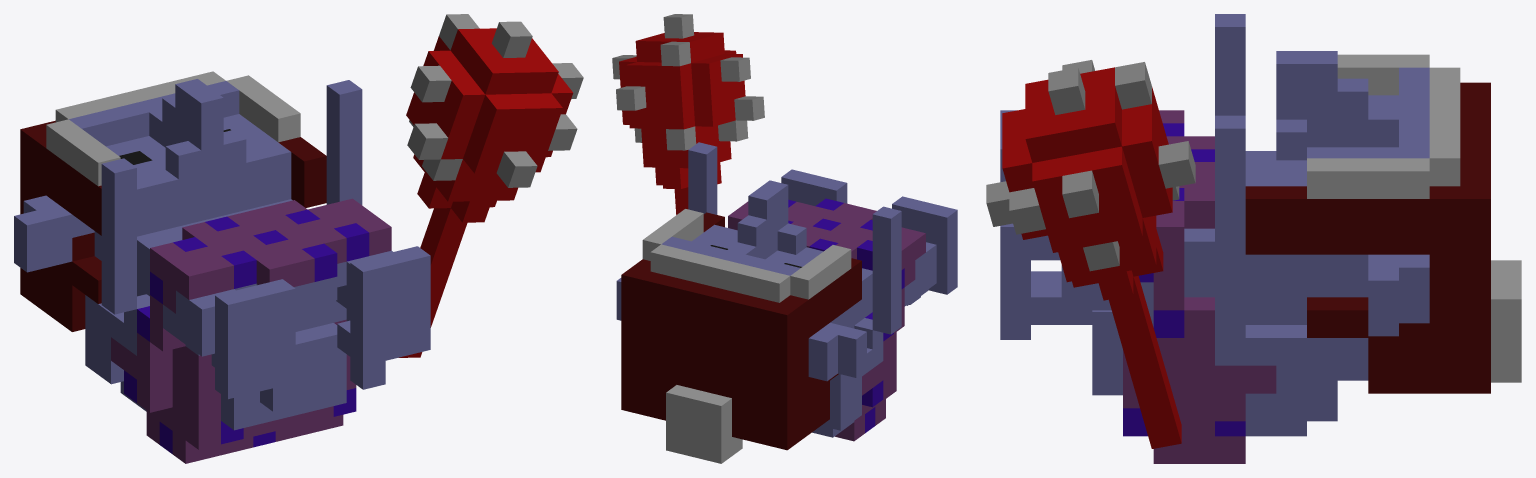
The model's file is hammer_goblin body.fbx.
3 renders of one model, left to right at view 1: azimuth 30°, elevation 25°; view 2: azimuth 150°, elevation 25°; view 3: azimuth 270°, elevation 25°, orthographic. The views are drawn at different scales.
Visible parts, largest first — view 1: hammer_goblin body, hammer_goblin hammer; view 2: hammer_goblin body, hammer_goblin hammer; view 3: hammer_goblin body, hammer_goblin hammer.
Boxes of the visible parts, x1,y1,x2,y2 form: hammer_goblin body: (14, 71, 430, 463); hammer_goblin hammer: (398, 14, 583, 357); hammer_goblin body: (616, 142, 957, 463); hammer_goblin hammer: (612, 14, 764, 214); hammer_goblin body: (1000, 14, 1521, 463); hammer_goblin hammer: (986, 60, 1195, 448).
Bounding box in the file's own units: 1.9 × 1.68 × 1.75.
1 material, 1 textured.
